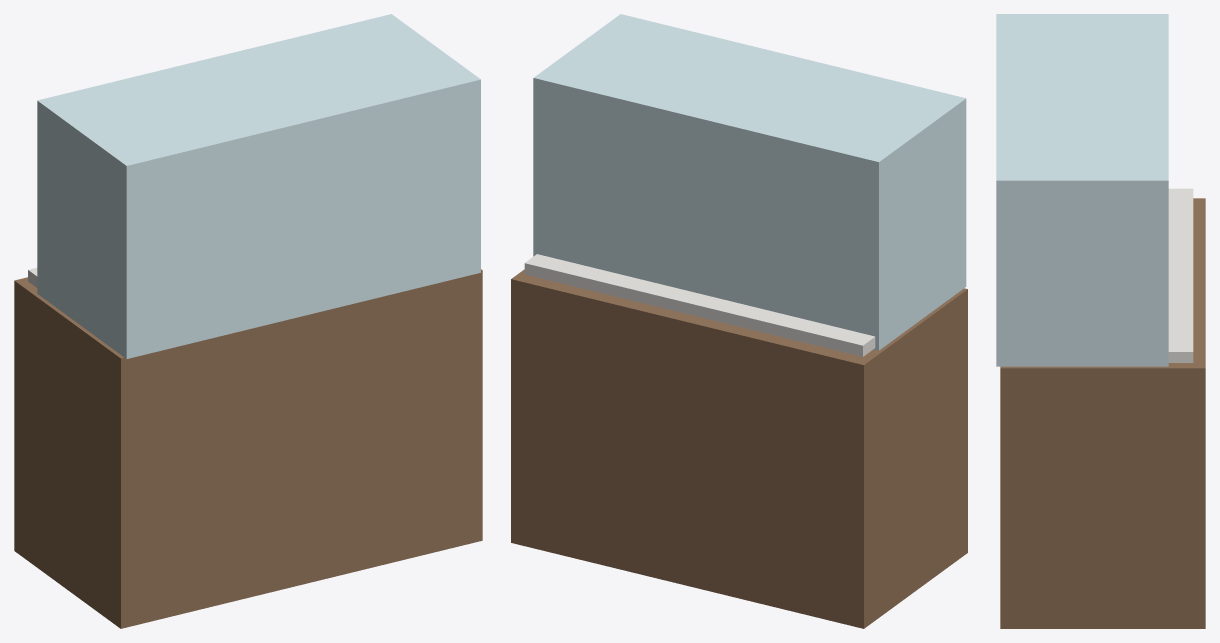
The model's file is display_case.glb.
3 renders of one model, left to right at view 1: azimuth 30°, elevation 25°; view 2: azimuth 150°, elevation 25°; view 3: azimuth 270°, elevation 25°, orthographic. The views are drawn at different scales.
Visible parts, largest first — view 1: display_case; view 2: display_case; view 3: display_case.
Part boxes in pixels (x1,y1,x2,y2): display_case: [14, 14, 482, 628]; display_case: [511, 14, 967, 628]; display_case: [996, 14, 1205, 628].
Size of the model in its own units: 0.98 by 1.2 by 0.51.
